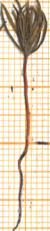flower: (0, 0, 50, 56)
root: (11, 142, 31, 231)
stem: (19, 57, 33, 143)
